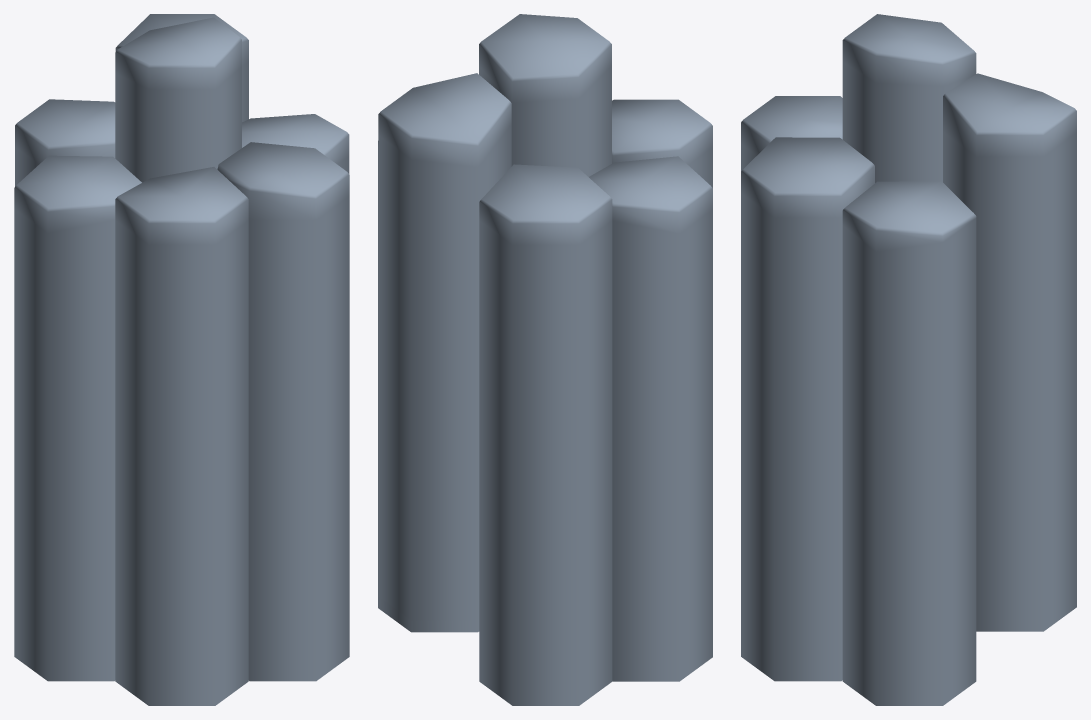
File: HexRaised3.fbx
3 views of the same model, side by side, from view 1: azimuth 30°, elevation 25°; view 2: azimuth 150°, elevation 25°; view 3: azimuth 270°, elevation 25° (orthographic).
Visible parts, largest first — view 1: Cylinder.006, Cylinder.002, Cylinder.001, Cylinder.003, Cylinder.005, Cylinder.000, Cylinder.004; view 2: Cylinder.005, Cylinder.004, Cylinder.001, Cylinder.003, Cylinder.006, Cylinder.000; view 3: Cylinder.000, Cylinder.004, Cylinder.002, Cylinder.003, Cylinder.006, Cylinder.005.
Part boxes in pixels (left/top/right/bottom): Cylinder.006: left=115, top=167, right=248, bottom=705; Cylinder.002: left=217, top=142, right=349, bottom=681; Cylinder.001: left=14, top=155, right=141, bottom=681; Cylinder.003: left=115, top=17, right=241, bottom=182; Cylinder.005: left=15, top=99, right=115, bottom=186; Cylinder.000: left=242, top=114, right=349, bottom=173; Cylinder.004: left=115, top=14, right=248, bottom=122; Cylinder.005: left=479, top=164, right=612, bottom=705; Cylinder.004: left=378, top=73, right=511, bottom=620; Cylinder.001: left=589, top=156, right=712, bottom=681; Cylinder.003: left=479, top=14, right=611, bottom=176; Cylinder.006: left=612, top=99, right=712, bottom=187; Cylinder.000: left=378, top=141, right=479, bottom=632; Cylinder.000: left=842, top=181, right=976, bottom=705; Cylinder.004: left=943, top=73, right=1076, bottom=620; Cylinder.002: left=741, top=137, right=874, bottom=681; Cylinder.003: left=842, top=14, right=976, bottom=182; Cylinder.006: left=741, top=96, right=842, bottom=171; Cylinder.005: left=976, top=596, right=1076, bottom=631.
Size of the model in its own units: 520 by 984 by 499.
